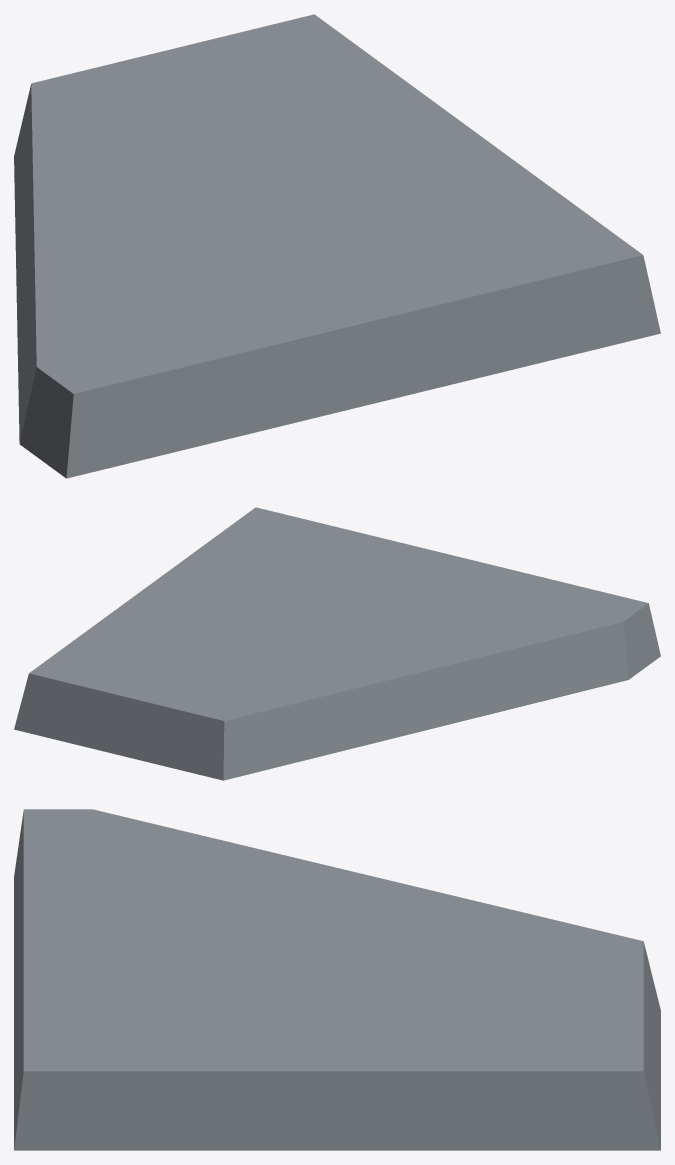
The model's file is Rock_Tile_m_07.fbx.
The picture shows the model from 3 angles, top to bottom: view 1: azimuth 30°, elevation 25°; view 2: azimuth 150°, elevation 25°; view 3: azimuth 270°, elevation 25°; orthographic projection. The views are drawn at different scales.
Visible parts, largest first — view 1: Rock_Tile_m_07; view 2: Rock_Tile_m_07; view 3: Rock_Tile_m_07.
Part boxes in pixels (x1,y1,x2,y2): Rock_Tile_m_07: [14, 14, 660, 478]; Rock_Tile_m_07: [14, 507, 660, 780]; Rock_Tile_m_07: [14, 809, 660, 1150].
Bounding box in the file's own units: 40 × 5 × 40.
